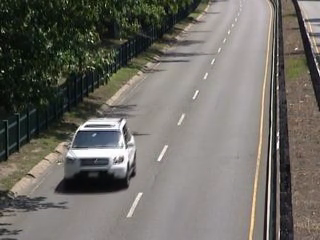car: (59, 114, 141, 193)
